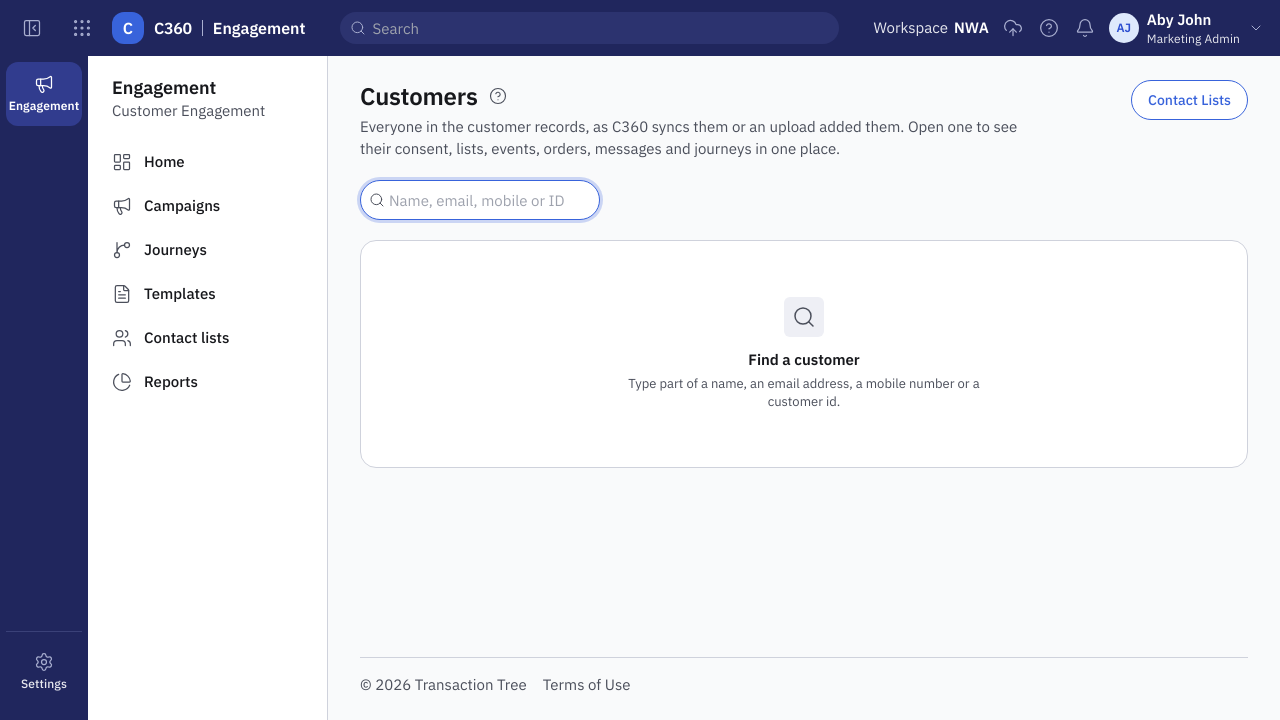
Scenario: Customers finds a customer by part of their name or email, and opens the record
Expected: the heading "Customers" is shown, [360,80,478,112]
Expected: the text "Find a customer" is shown, [748,350,860,369]
Type "aali" into the search field named "Search customers" at (492, 200), box [389,181,595,219]
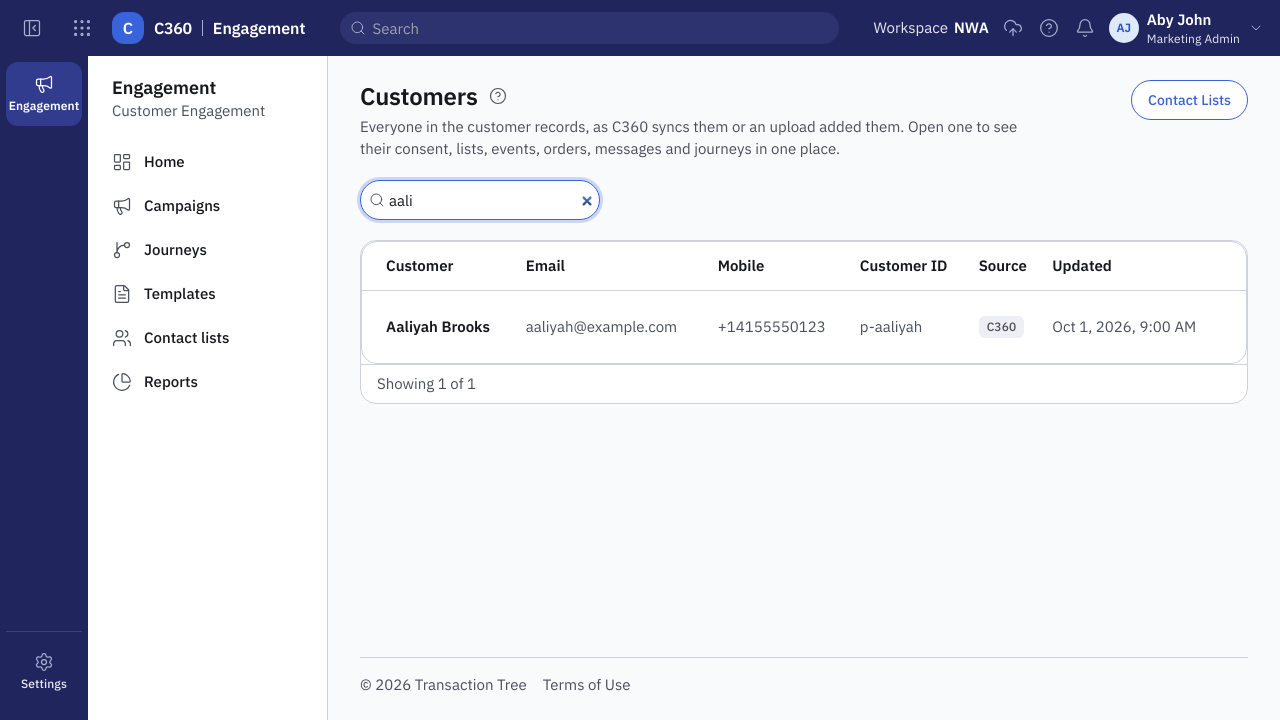
Click the link "Aaliyah Brooks" at (438, 326), box [386,316,490,336]
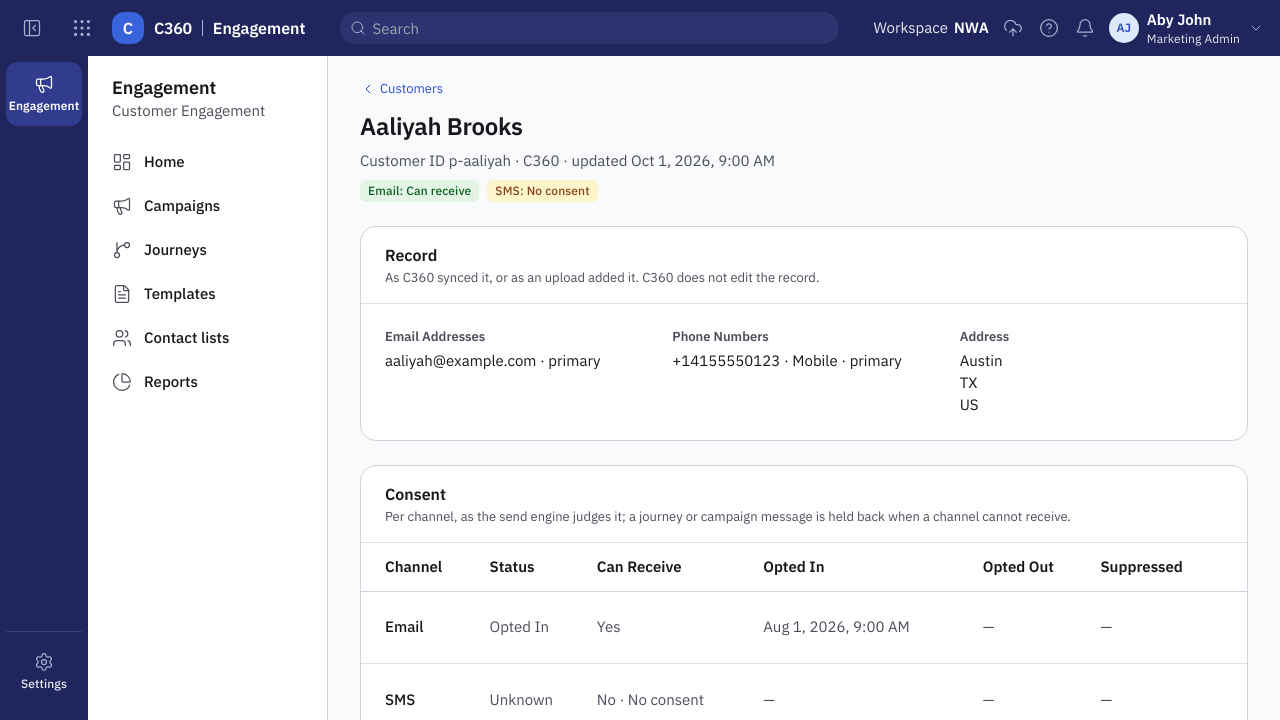
Now the heading "Aaliyah Brooks" is shown, box [360,110,523,142]
